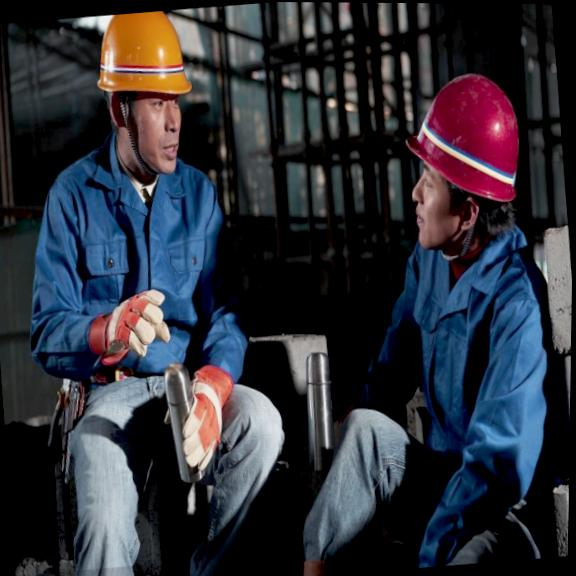no_safety_vest: (47, 157, 240, 405), (393, 238, 556, 512)
